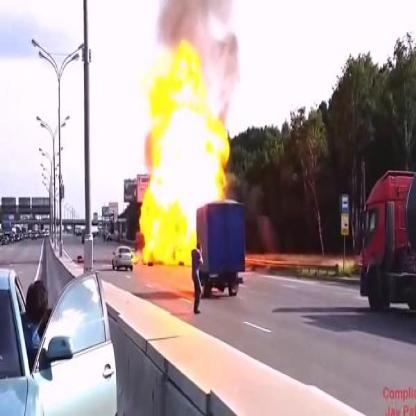fire: (138, 34, 228, 262)
